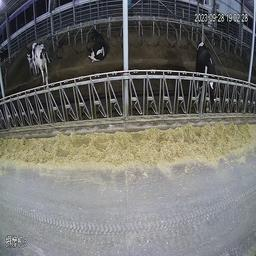cow: (196, 41, 215, 107), (26, 43, 53, 80), (87, 27, 111, 60)
